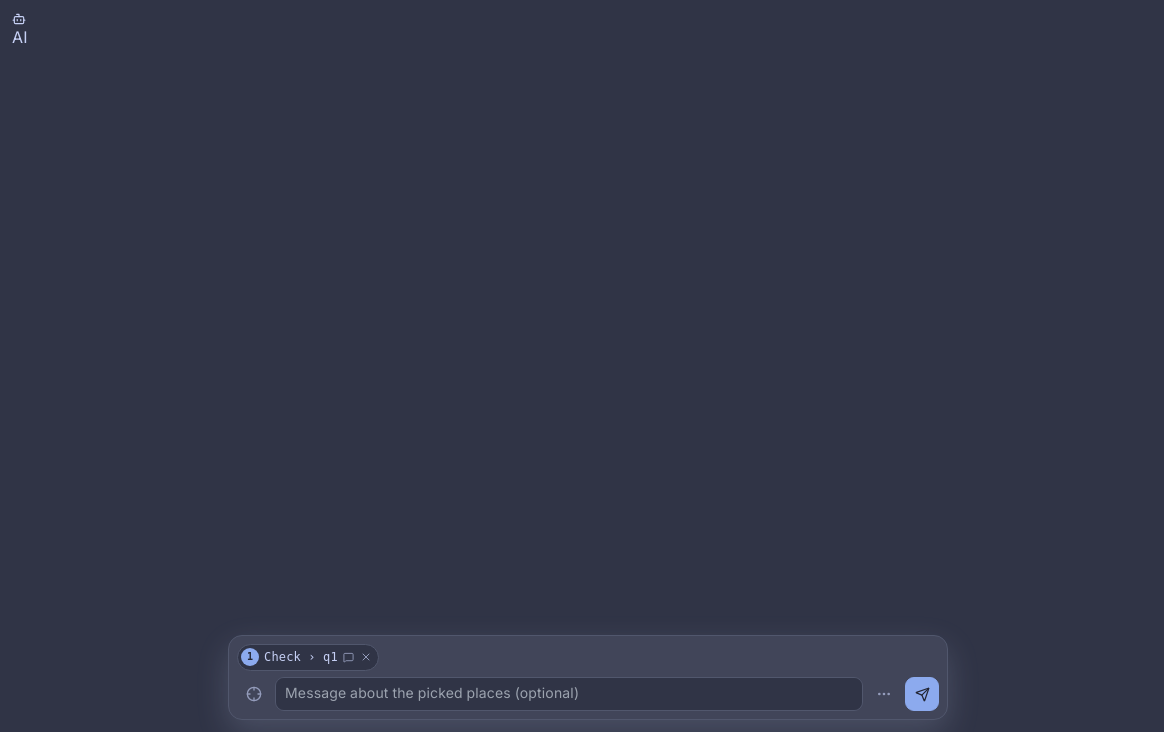
Test: Content tools in Viewer (decisions 120–125) › asks again without tools when the server refuses them, then turns the switch off
The width and height of the screenshot is (1164, 732).
Click the button with test id "pick-send".
click(922, 694)  # box [905,677,939,711]
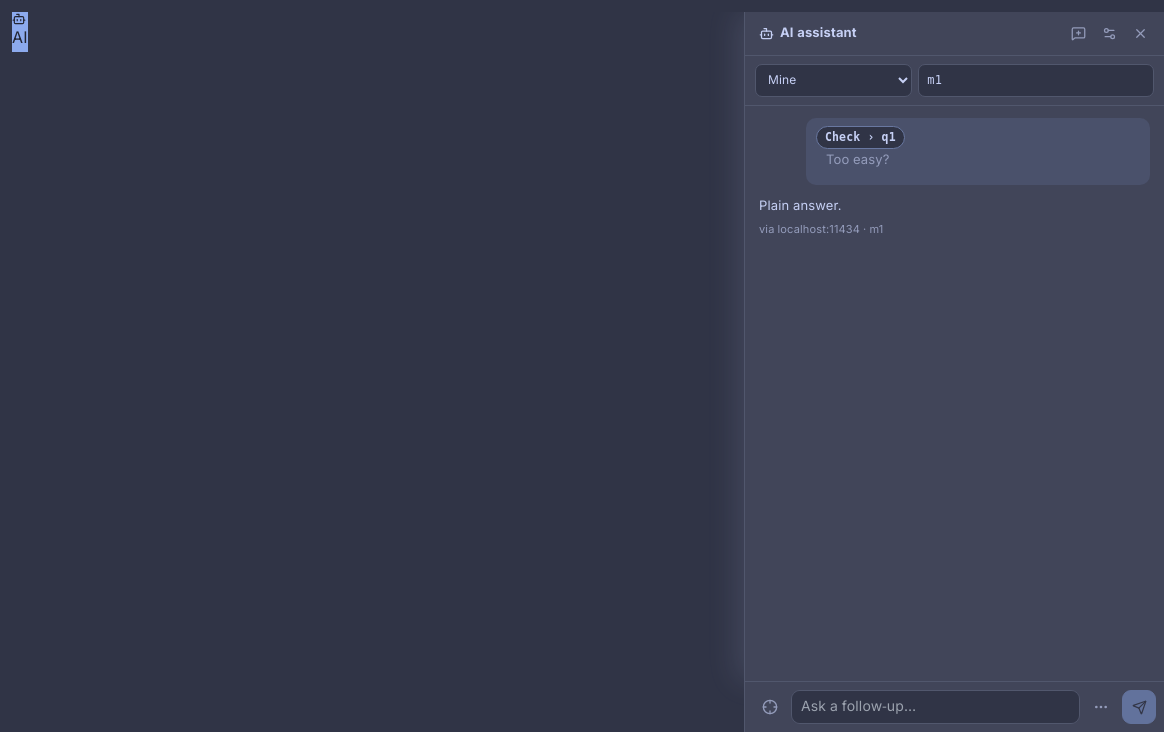
Expected: the element with test id "ai-reply" shows "Plain answer.", [759,196,842,217]
